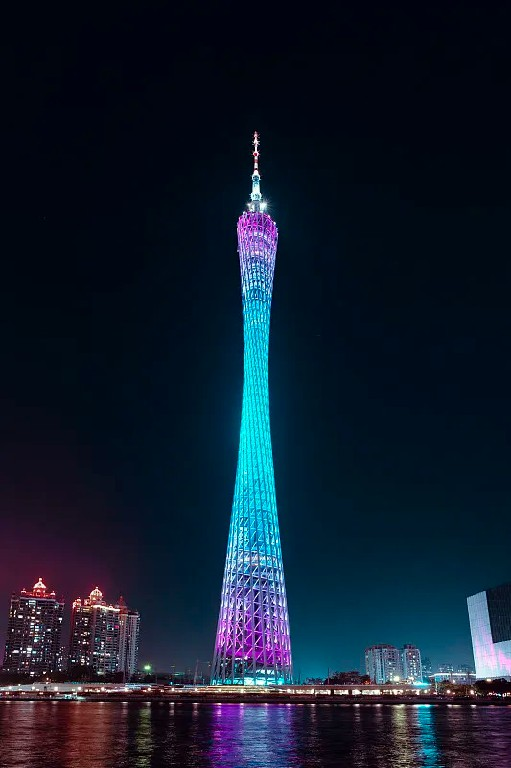Canton: (206, 126, 297, 687)
